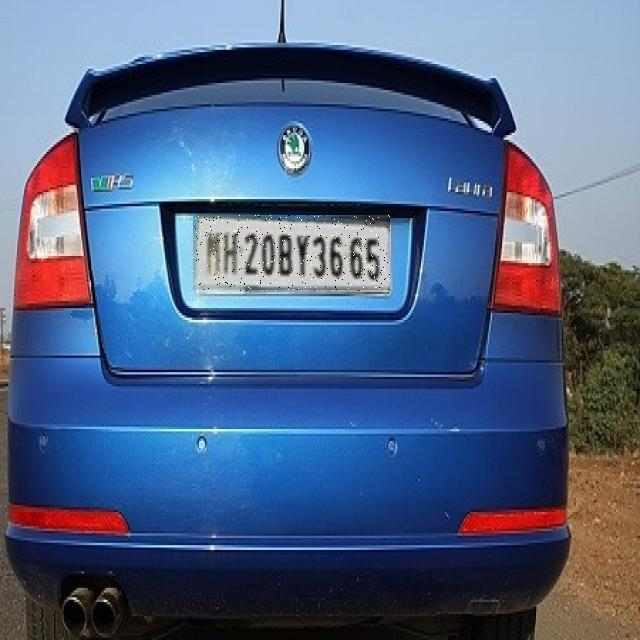Plate: (194, 217, 391, 293)
